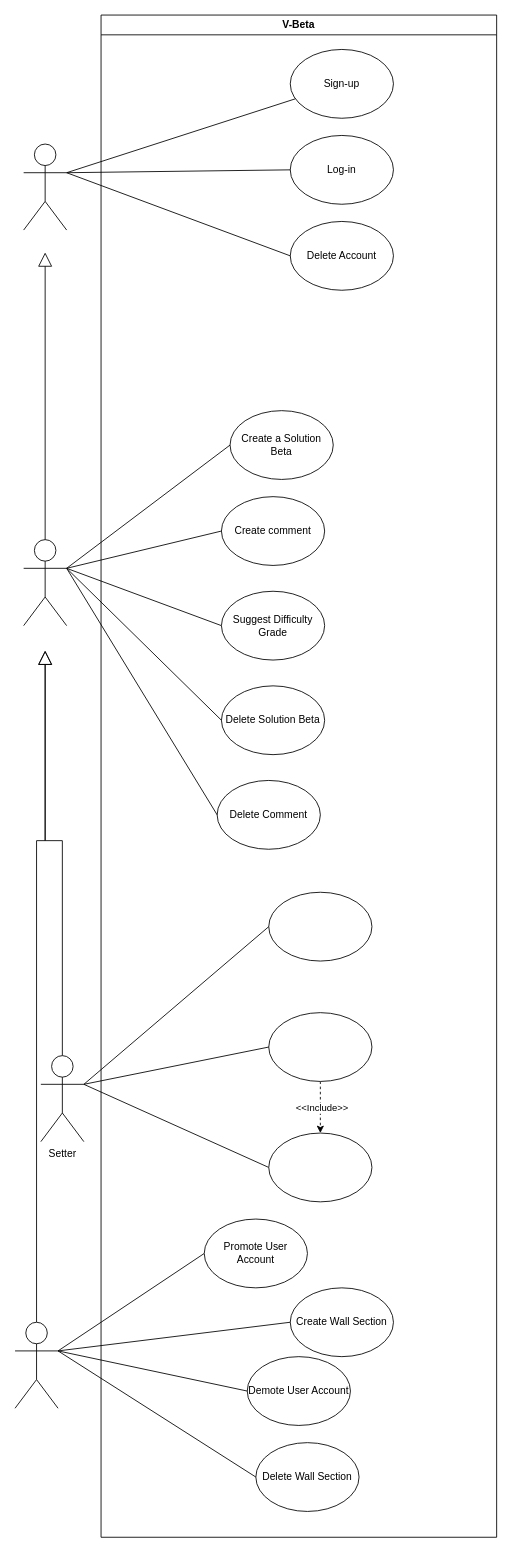
Image size: 512x1552. Some labels were removed from this diagram. Here are the shapes that lost their labels. From the top down, the centre of each, then its label:
the point at 45,186: User
the point at 45,582: Climber
the point at 320,926: Create Climbing Problem
the point at 320,1046: Clear Wall Section
the point at 320,1167: Delete Climbing Problem
the point at 36,1364: Admin
